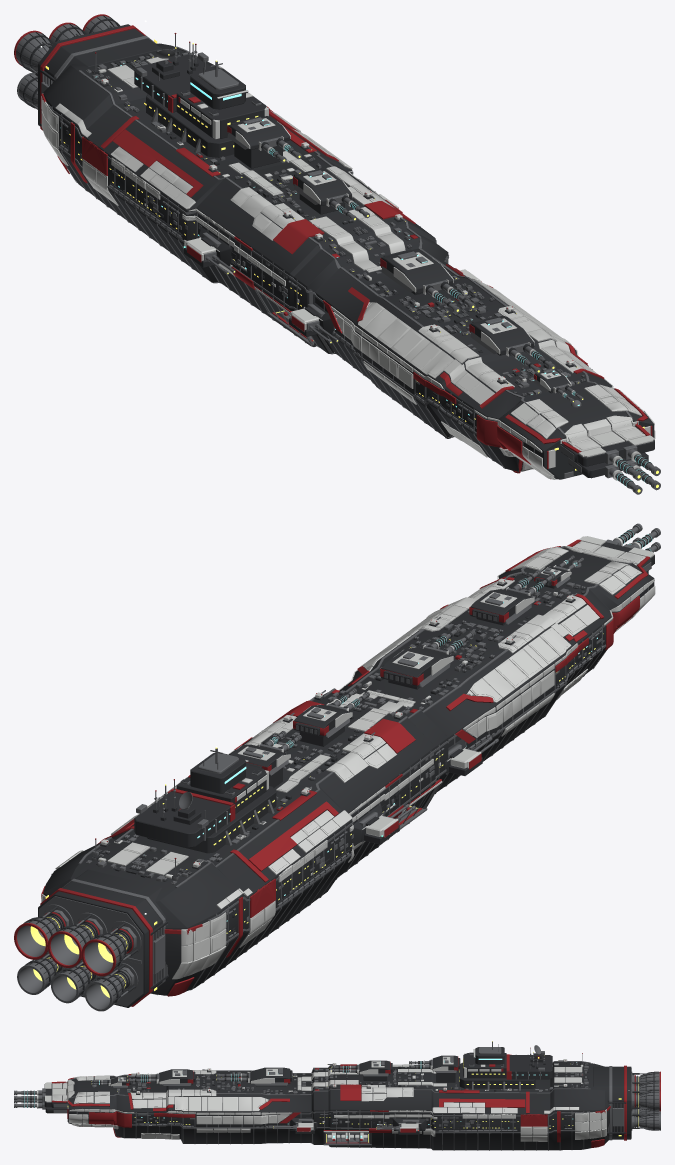
3 renders of one model, top to bottom at view 1: azimuth 30°, elevation 25°; view 2: azimuth 150°, elevation 25°; view 3: azimuth 270°, elevation 25°, orthographic. The views are drawn at different scales.
Parts seen in each view (by area): view 1: KV01_Coque, KV01_Tourelle_T2, KV01_Tourelle_T4, KV01_Tourelle_T1, KV01_Tourelle_T3, KV01_Sponson_SP1.L, KV01_Sponson_SP0.L, KV01_Tourelle_T0, KV01_PDC; view 2: KV01_Coque, KV01_Tourelle_T2, KV01_Tourelle_T3, KV01_Tourelle_T1, KV01_Tourelle_T4, KV01_Sponson_SP1.L, KV01_Sponson_SP0.L, KV01_PDC; view 3: KV01_Coque, KV01_Tourelle_T2, KV01_Tourelle_T4, KV01_Tourelle_T1, KV01_Tourelle_T3, KV01_Sponson_SP1.R, KV01_Sponson_SP0.R, KV01_Tourelle_T0, KV01_PDC.
Part boxes in pixels (<box>): KV01_Coque: <box>14,14,660,494</box>; KV01_Tourelle_T2: <box>380,249,475,313</box>; KV01_Tourelle_T4: <box>227,116,301,168</box>; KV01_Tourelle_T1: <box>469,315,555,373</box>; KV01_Tourelle_T3: <box>293,169,369,221</box>; KV01_Sponson_SP1.L: <box>184,232,235,274</box>; KV01_Sponson_SP0.L: <box>289,304,338,343</box>; KV01_Tourelle_T0: <box>534,369,583,402</box>; KV01_PDC: <box>100,56,576,384</box>; KV01_Coque: <box>14,523,660,1011</box>; KV01_Tourelle_T2: <box>380,626,475,689</box>; KV01_Tourelle_T3: <box>293,688,369,746</box>; KV01_Tourelle_T1: <box>469,569,555,625</box>; KV01_Tourelle_T4: <box>230,731,301,787</box>; KV01_Sponson_SP1.L: <box>359,804,415,844</box>; KV01_Sponson_SP0.L: <box>446,737,498,775</box>; KV01_PDC: <box>100,576,577,869</box>; KV01_Coque: <box>14,1040,660,1150</box>; KV01_Tourelle_T2: <box>216,1067,292,1086</box>; KV01_Tourelle_T4: <box>409,1055,460,1082</box>; KV01_Tourelle_T1: <box>127,1069,195,1085</box>; KV01_Tourelle_T3: <box>331,1060,392,1080</box>; KV01_Sponson_SP1.R: <box>376,1119,419,1134</box>; KV01_Sponson_SP0.R: <box>273,1119,315,1133</box>; KV01_Tourelle_T0: <box>91,1077,131,1087</box>; KV01_PDC: <box>131,1059,567,1094</box>.
Bounding box in the file's own units: 259 × 214 × 1318.
